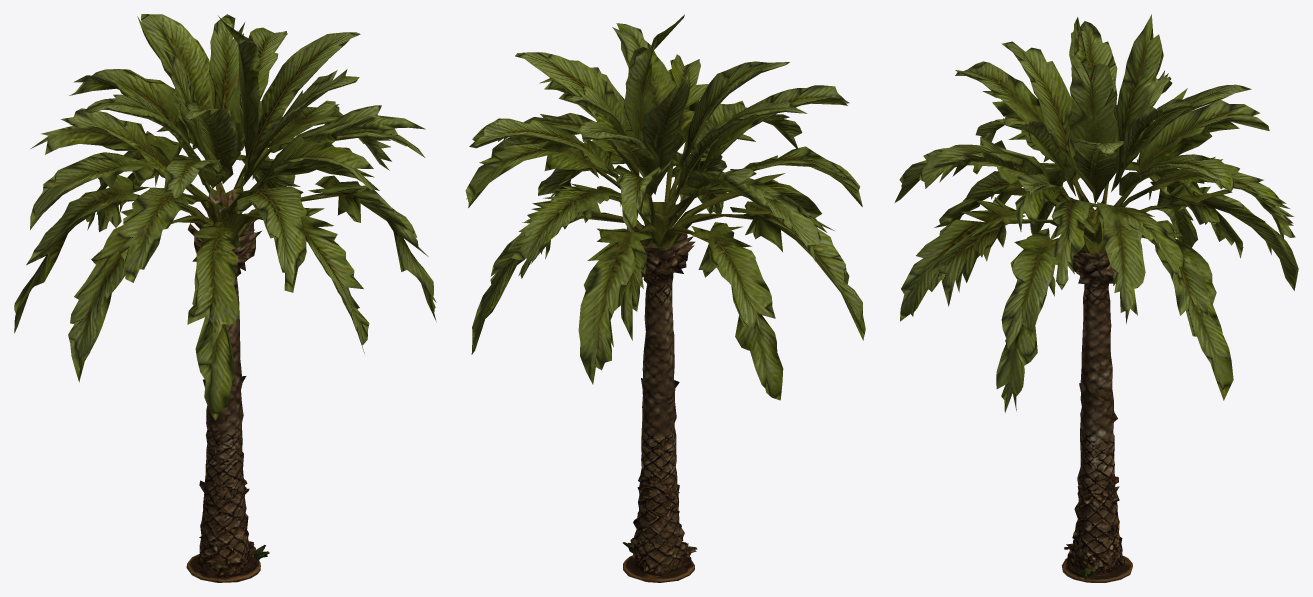
The model's file is palmera.glb.
3 views of the same model, side by side, from view 1: azimuth 30°, elevation 25°; view 2: azimuth 150°, elevation 25°; view 3: azimuth 270°, elevation 25° (orthographic). The views are drawn at different scales.
Parts seen in each view (by area): view 1: tripo_node_dbd32856-9766-4a56-86c6-6cd3a00fc6b4; view 2: tripo_node_dbd32856-9766-4a56-86c6-6cd3a00fc6b4; view 3: tripo_node_dbd32856-9766-4a56-86c6-6cd3a00fc6b4.
Boxes of the visible parts, x1,y1,x2,y2 form: tripo_node_dbd32856-9766-4a56-86c6-6cd3a00fc6b4: (14,14,436,582); tripo_node_dbd32856-9766-4a56-86c6-6cd3a00fc6b4: (465,14,865,582); tripo_node_dbd32856-9766-4a56-86c6-6cd3a00fc6b4: (894,14,1298,582).
Size of the model in its own units: 0.6585 by 0.9822 by 0.66.
Materials: 1 (1 with a texture image).
